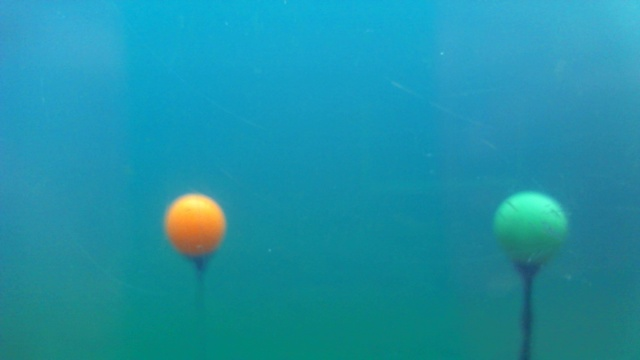buoy_green: (490, 185, 568, 279)
buoy_red: (165, 193, 226, 264)
